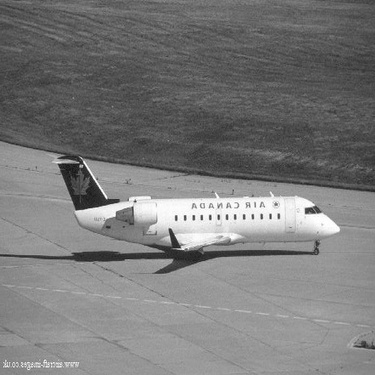airplane: (45, 143, 344, 262)
